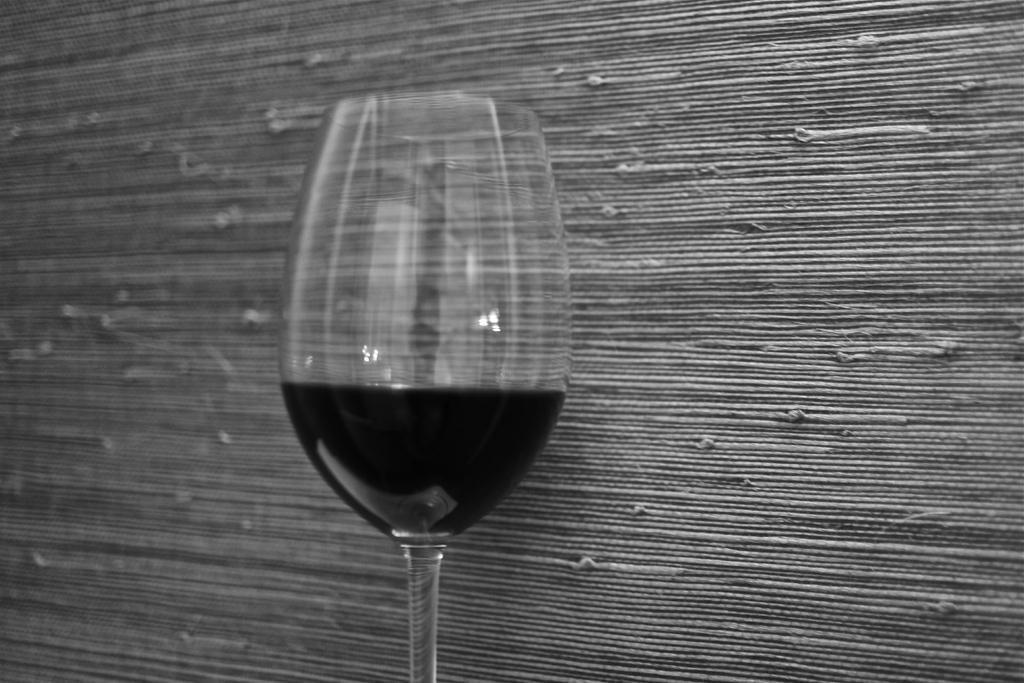glass-wine: (280, 91, 572, 683)
